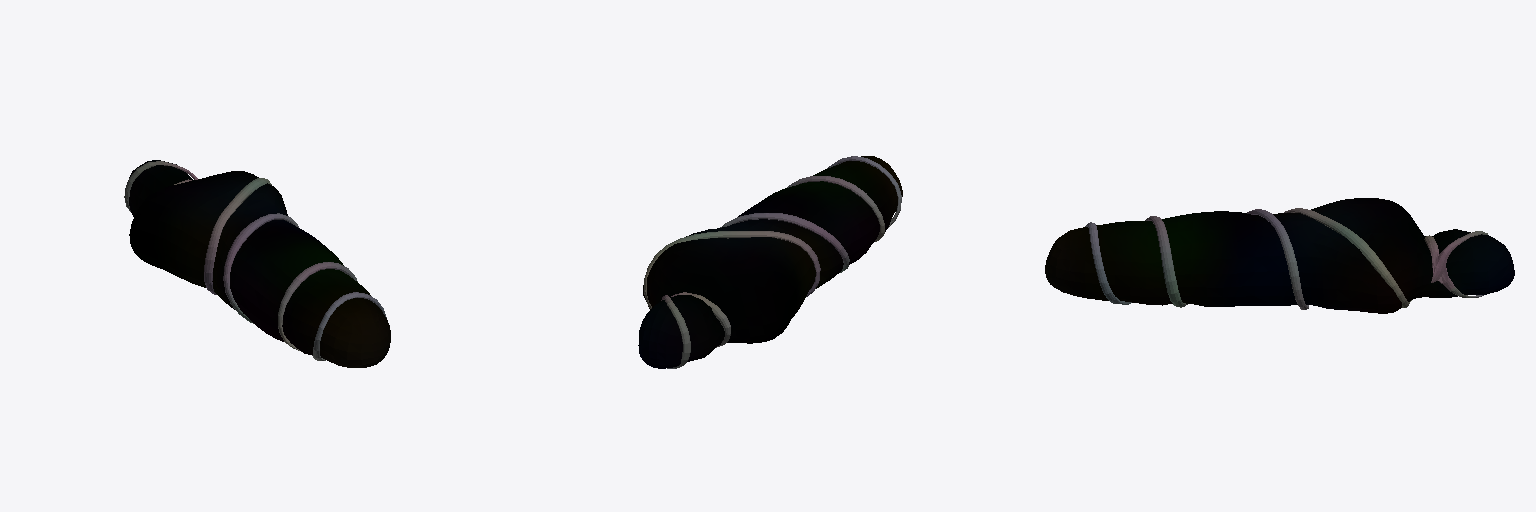
The picture shows the model from 3 angles: view 1: azimuth 30°, elevation 25°; view 2: azimuth 150°, elevation 25°; view 3: azimuth 270°, elevation 25°; orthographic projection.
Parts seen in each view (by area): view 1: ZBrush_defualt_group, Group1; view 2: ZBrush_defualt_group, Group1; view 3: ZBrush_defualt_group, Group1.
Part boxes in pixels (x1,y1,x2,y2): ZBrush_defualt_group: (129,160,390,367); Group1: (124,161,386,360); ZBrush_defualt_group: (638,156,902,368); Group1: (644,156,901,368); ZBrush_defualt_group: (1045,198,1514,313); Group1: (1085,208,1487,309).
Size of the model in its own units: 3.18 by 1.74 by 9.06.
Materials: 1 (1 with a texture image).